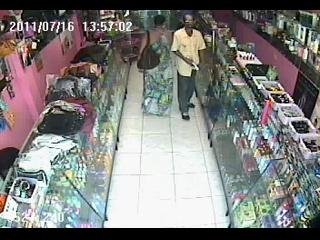Normal: (170, 13, 207, 120), (137, 14, 174, 115), (137, 30, 162, 70)
